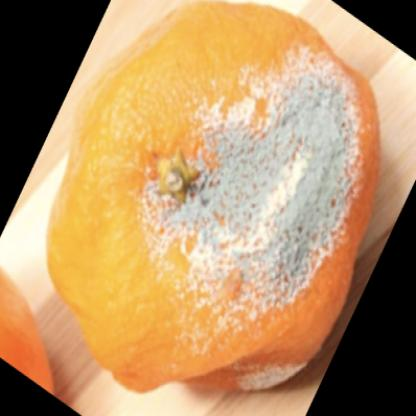rotten: (49, 5, 380, 390)
